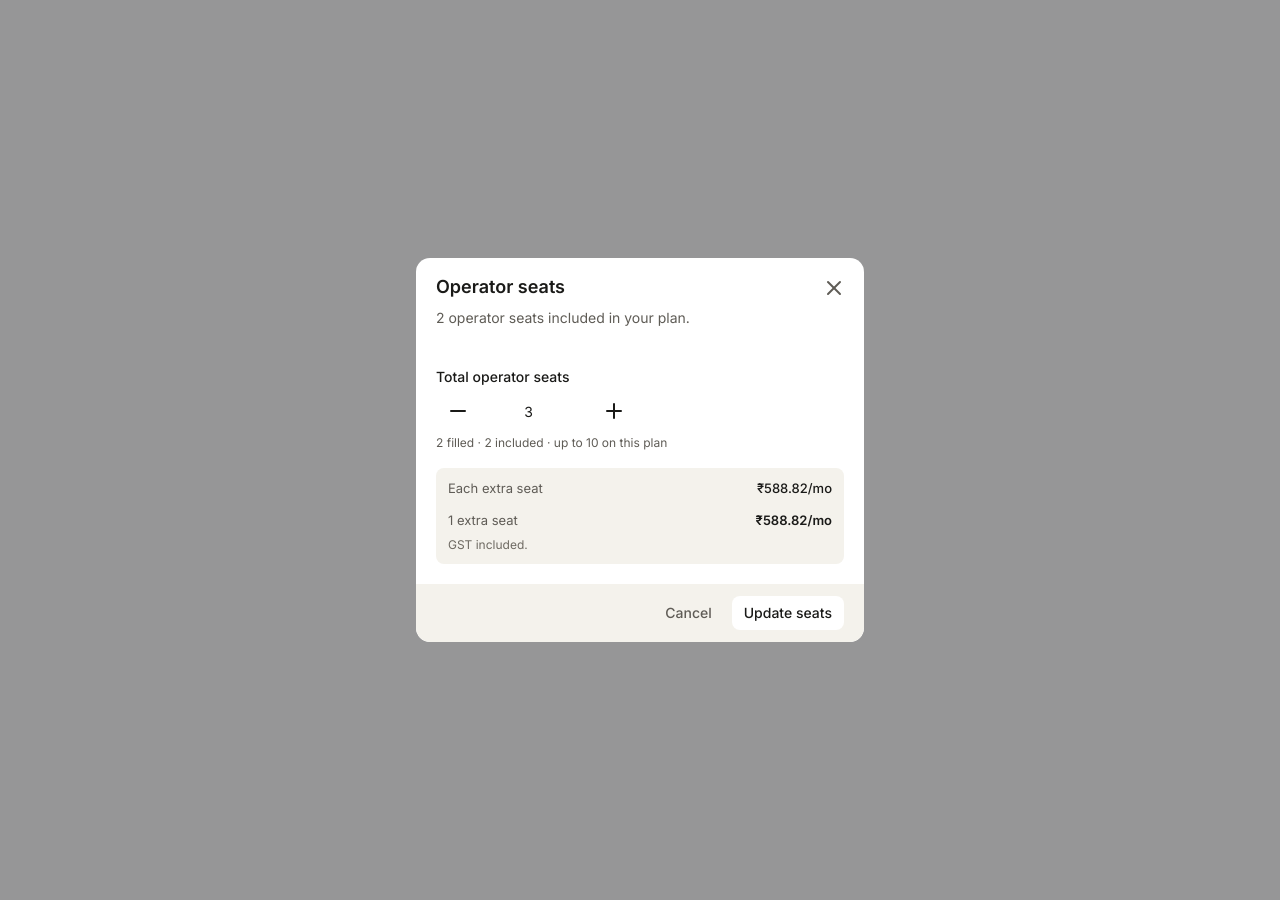
Test: the scope of the filled-seat count › will not reduce below the seats filled ON THIS CHATBOT
Replace the text in the number field with "1" at {"x": 536, "y": 411}, box [488,394,584,428]
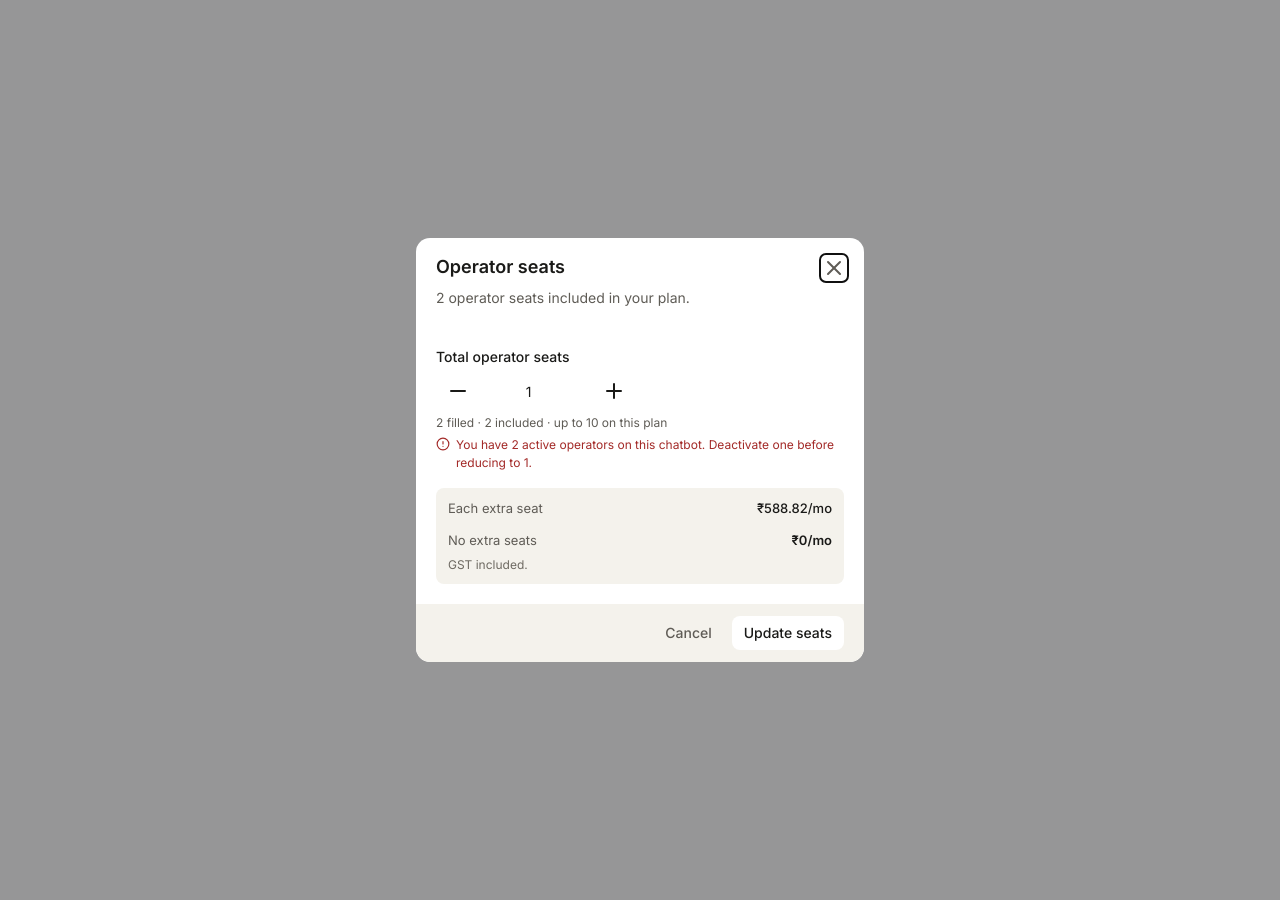
Check: the button "Update seats" is disabled, box [732,616,844,650]
Check: the text "2 active operators on this chatbot" is shown, box [456,437,834,470]
